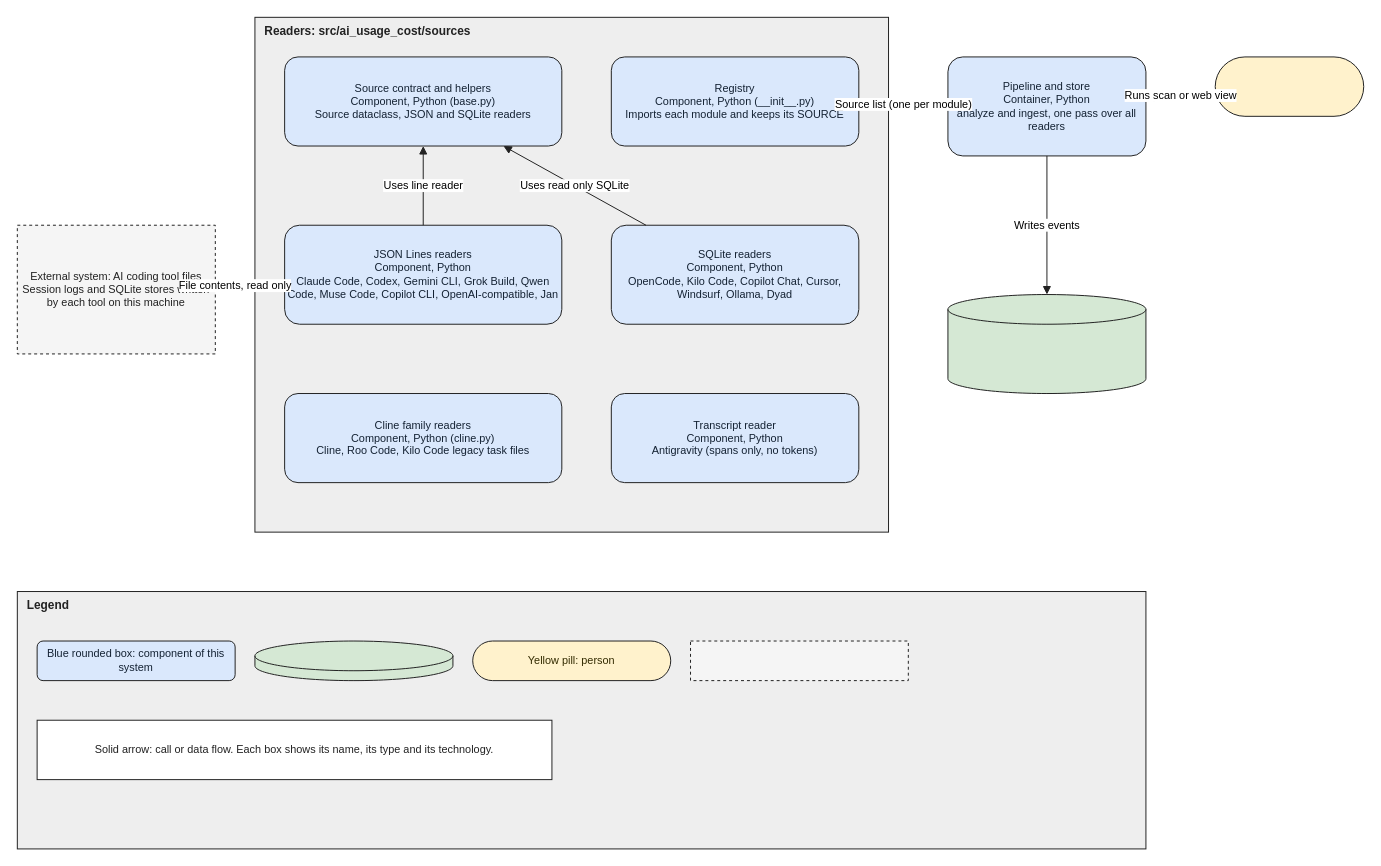
The diagram is 1381 pixels wide and 866 high, and some of its shapes have lost their labels. Here are the shapes that lost their labels. From the top down, the centre of each, then its label:
At pixel 1289 86: "Person: developer Runs the tool locally".
At pixel 1046 344: "Usage store Database container, SQLite Parsed events and file records".
At pixel 353 660: "Green cylinder: data store".
At pixel 799 660: "Grey dashed box: system the project does not control".
